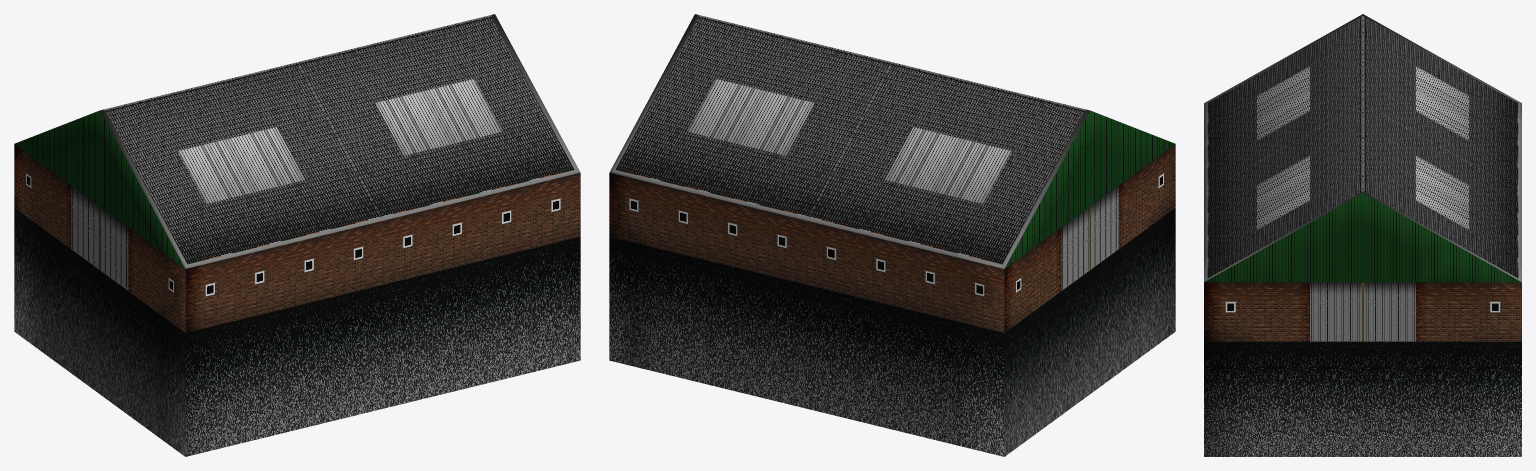
The model's file is schuur_mod1_1a.fbx.
3 views of the same model, side by side, from view 1: azimuth 30°, elevation 25°; view 2: azimuth 150°, elevation 25°; view 3: azimuth 270°, elevation 25° (orthographic). The views are drawn at different scales.
Parts seen in each view (by area): view 1: schuur_mod1_1a; view 2: schuur_mod1_1a; view 3: schuur_mod1_1a.
Boxes of the visible parts, x1,y1,x2,y2 form: schuur_mod1_1a: (14, 14, 580, 456); schuur_mod1_1a: (609, 14, 1175, 456); schuur_mod1_1a: (1204, 14, 1521, 456).
Size of the model in its own units: 3000 by 2061 by 2250.
